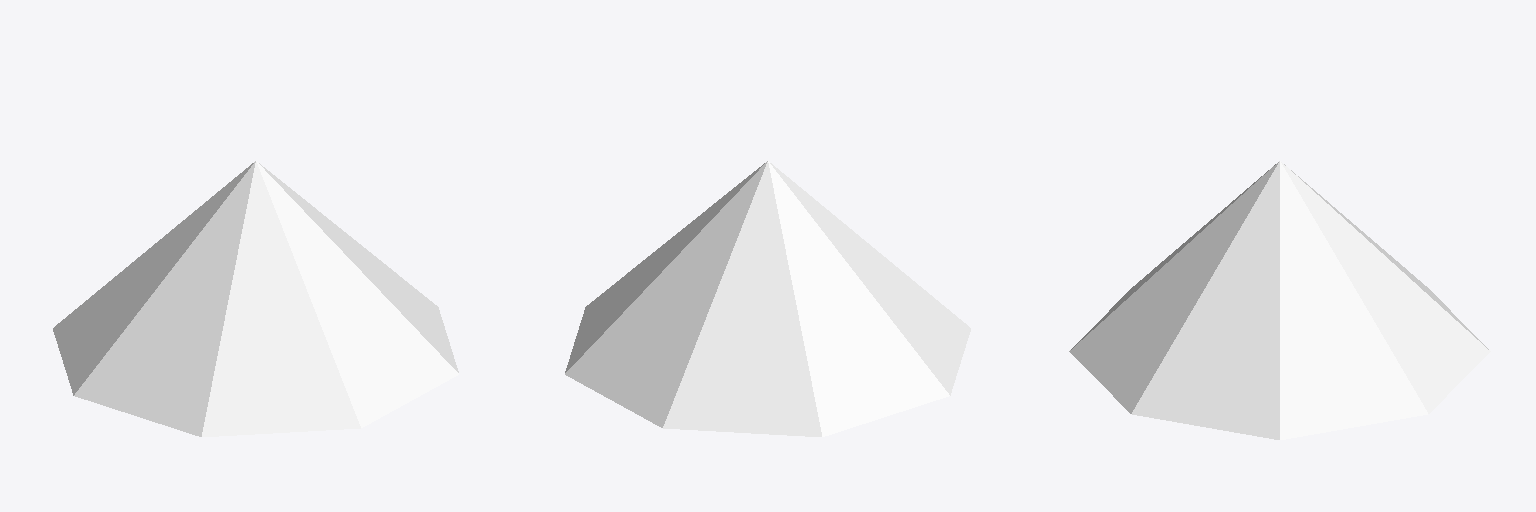
The model's file is FireCone.obj.
3 views of the same model, side by side, from view 1: azimuth 30°, elevation 25°; view 2: azimuth 150°, elevation 25°; view 3: azimuth 270°, elevation 25° (orthographic).
Parts seen in each view (by area): view 1: FireCone; view 2: FireCone; view 3: FireCone.
Boxes of the visible parts, box(x1,y1,x2,y2) form: FireCone: box(53, 161, 458, 436); FireCone: box(565, 161, 970, 436); FireCone: box(1069, 161, 1490, 439).
Size of the model in its own units: 2 by 1 by 2.